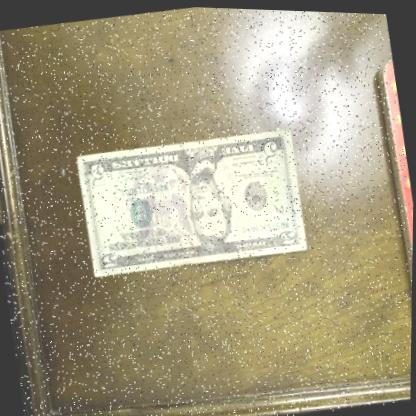five-front: (73, 119, 312, 284)
